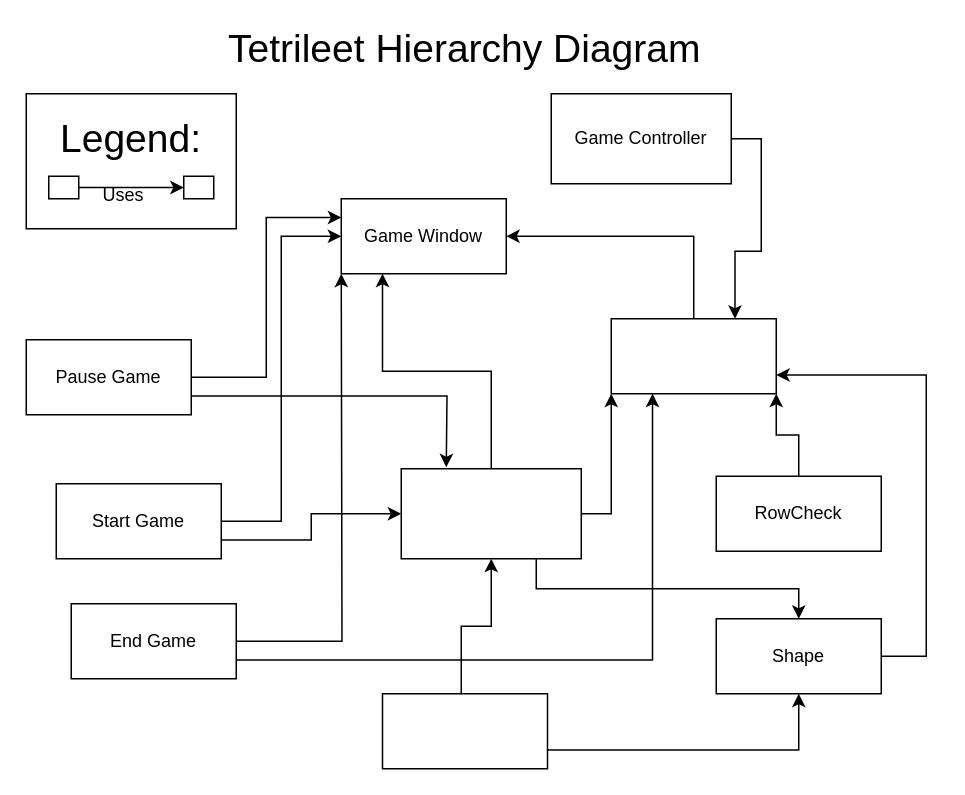
Some shapes in this 965 by 795 pixel diagram are drawn without their labels. Each missing label, with the box of its shape:
BlockFall: (400, 467, 581, 559)
BlockStack: (381, 692, 548, 769)
Grid: (610, 317, 776, 394)
